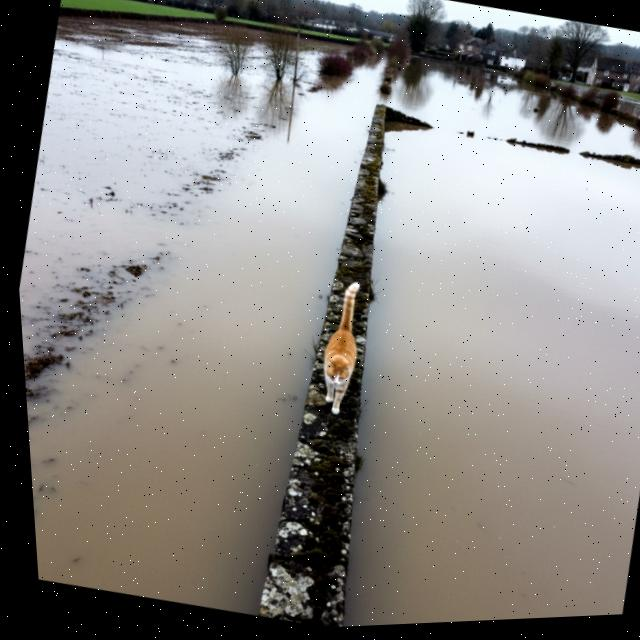cat: (291, 270, 391, 425)
